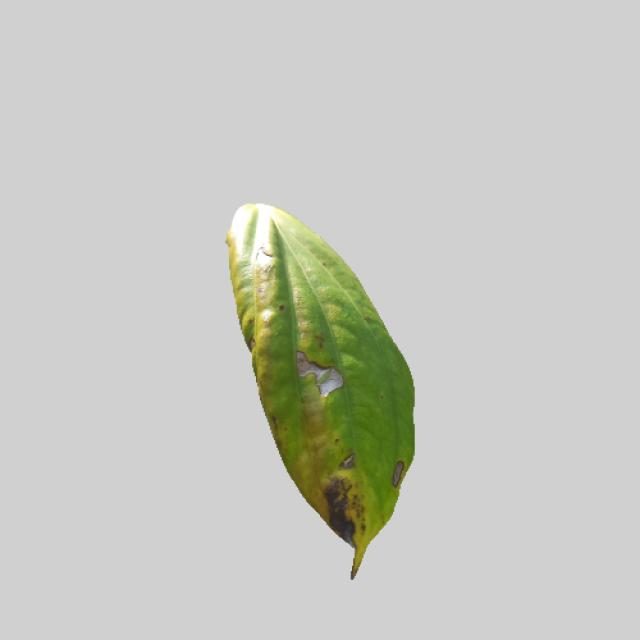yellow-mottle-virus: (210, 204, 415, 578)
